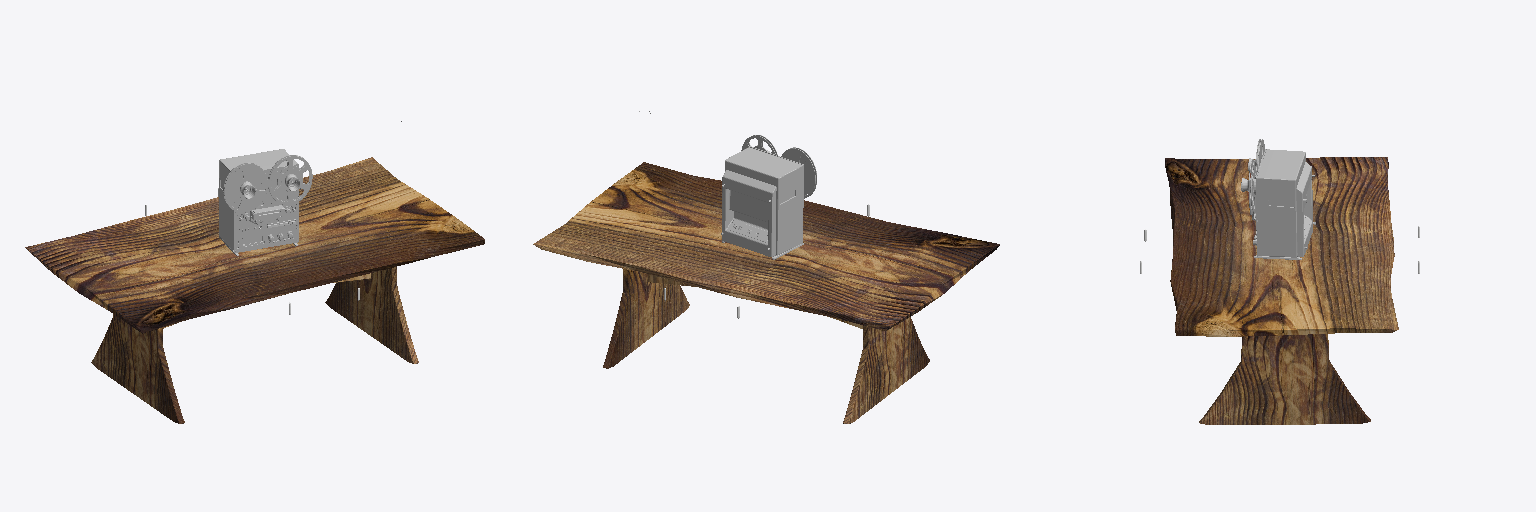
The picture shows the model from 3 angles: view 1: azimuth 30°, elevation 25°; view 2: azimuth 150°, elevation 25°; view 3: azimuth 270°, elevation 25°; orthographic projection.
Parts seen in each view (by area): view 1: Object_4_Object_0, PI_REC_BASE_BASE_0, PI_REC_WHEEL_A_DETAILS_0, PI_REC_WHEEL_B_DETAILS_0, PI_REC_BASE_DETAILS_0; view 2: Object_4_Object_0, PI_REC_BASE_BASE_0, PI_REC_WHEEL_A_DETAILS_0; view 3: Object_4_Object_0, PI_REC_BASE_BASE_0.
Boxes of the visible parts, x1,y1,x2,y2 form: Object_4_Object_0: [25, 157, 484, 423]; PI_REC_BASE_BASE_0: [219, 149, 298, 255]; PI_REC_WHEEL_A_DETAILS_0: [223, 162, 267, 212]; PI_REC_WHEEL_B_DETAILS_0: [268, 155, 312, 204]; PI_REC_BASE_DETAILS_0: [235, 188, 300, 246]; Object_4_Object_0: [533, 162, 999, 423]; PI_REC_BASE_BASE_0: [721, 146, 803, 259]; PI_REC_WHEEL_A_DETAILS_0: [781, 147, 816, 198]; Object_4_Object_0: [1165, 157, 1398, 424]; PI_REC_BASE_BASE_0: [1254, 149, 1315, 259].
Bounding box in the file's own units: 2.45 × 1.44 × 1.66.
Materials: 5 (1 with a texture image).